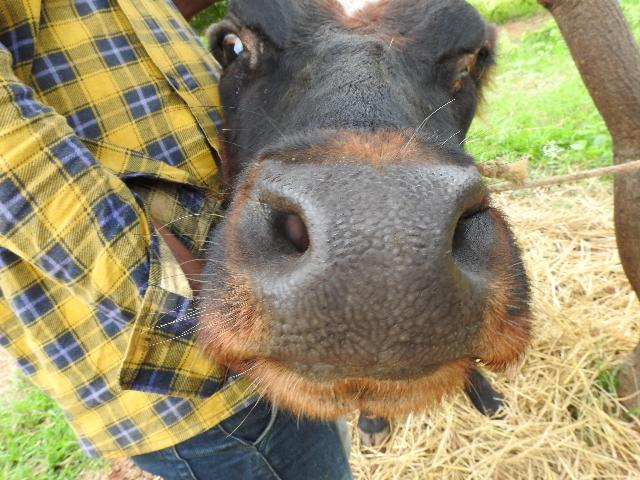Muzzle: (250, 165, 494, 383)
